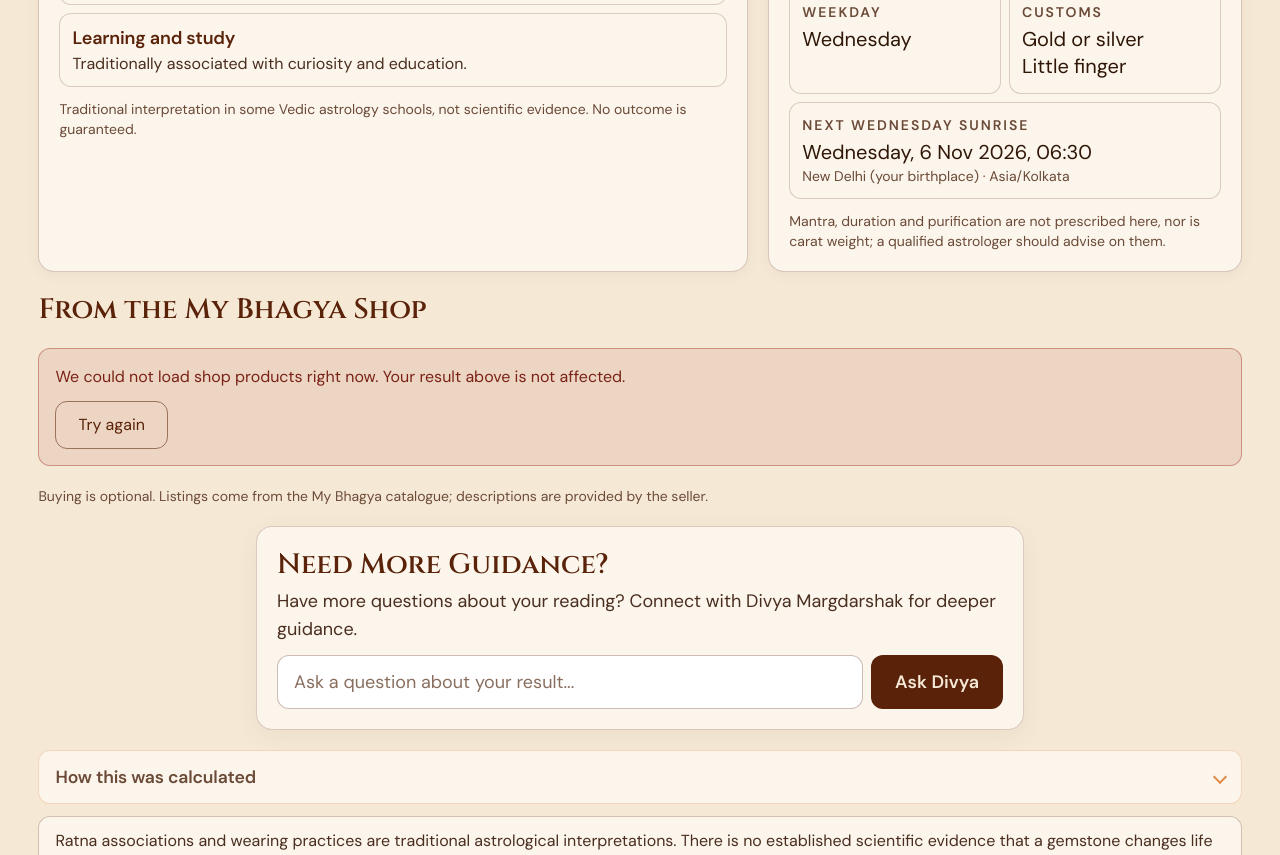
Test: shop products for the date-based gemstone › keeps the result and offers a retry when the shop API fails
The width and height of the screenshot is (1280, 855).
(page scrolled)
Expected: the text "could not load shop products" is shown, [55, 366, 625, 387]
Click the button "Try again".
click(112, 425)  # box [55, 401, 168, 449]
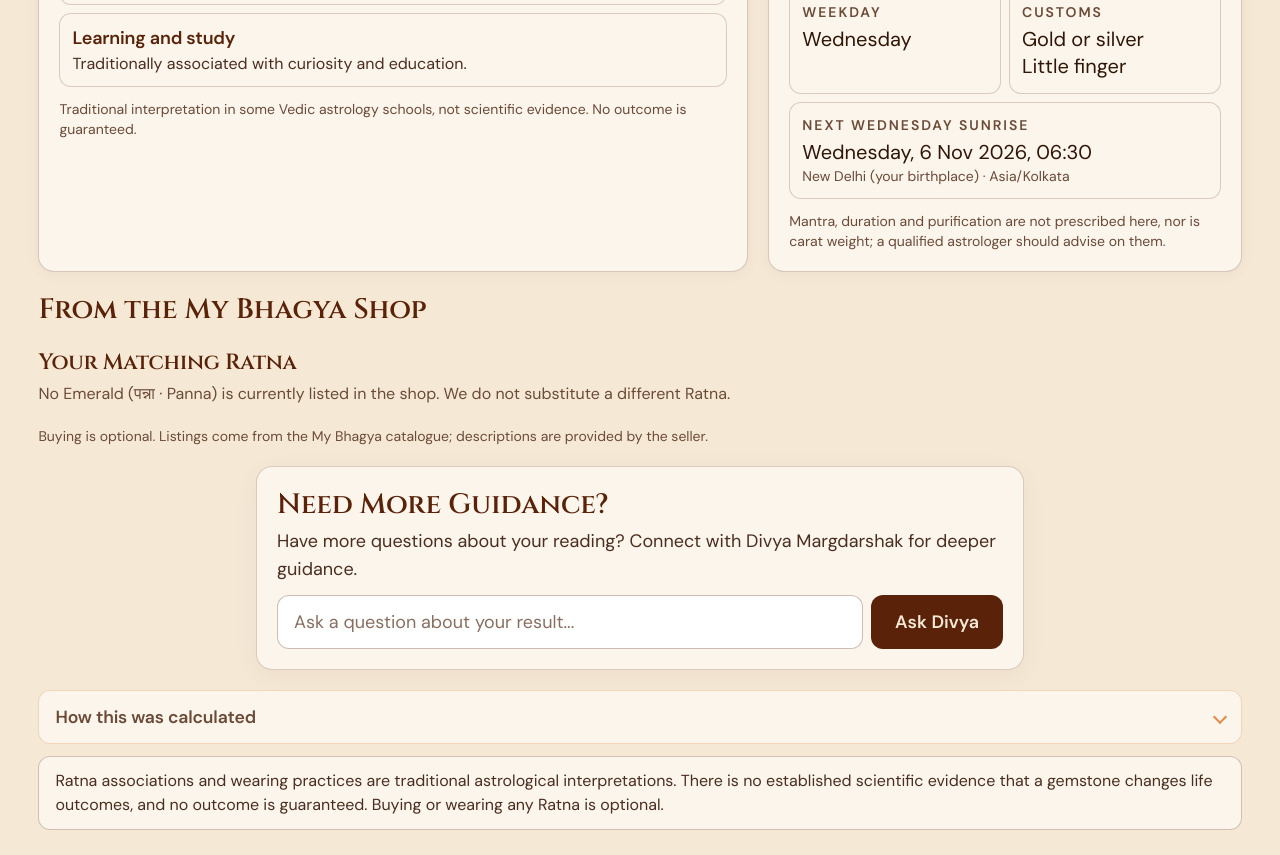
Now the text "could not load shop products" is gone
